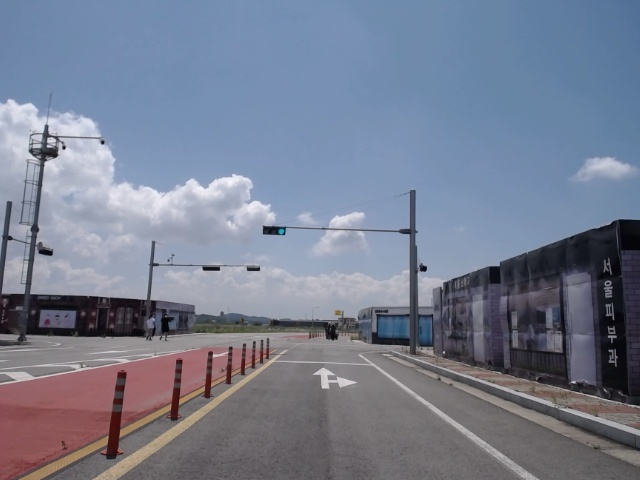green_3: (263, 226, 286, 235)
